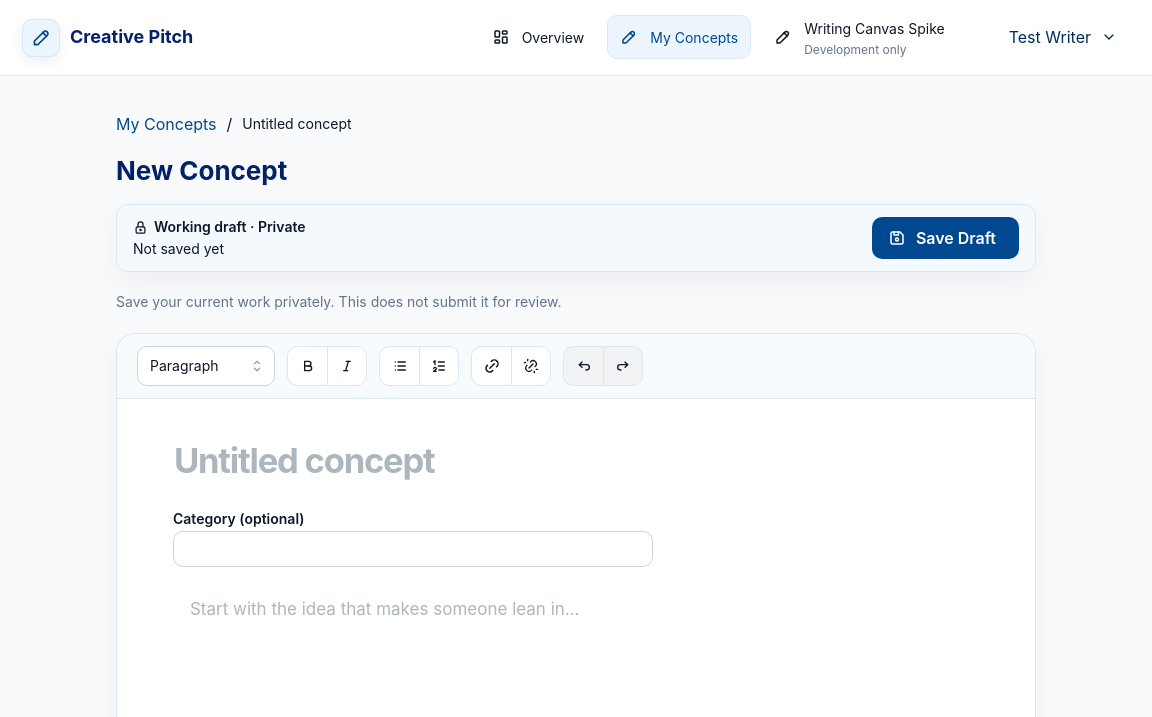
Test: does not silently replay a timed-out POST
The width and height of the screenshot is (1152, 717).
Type "Timeout check" into the text box named "Concept title" at (576, 460), box x1=173 y1=439 x2=979 y2=482
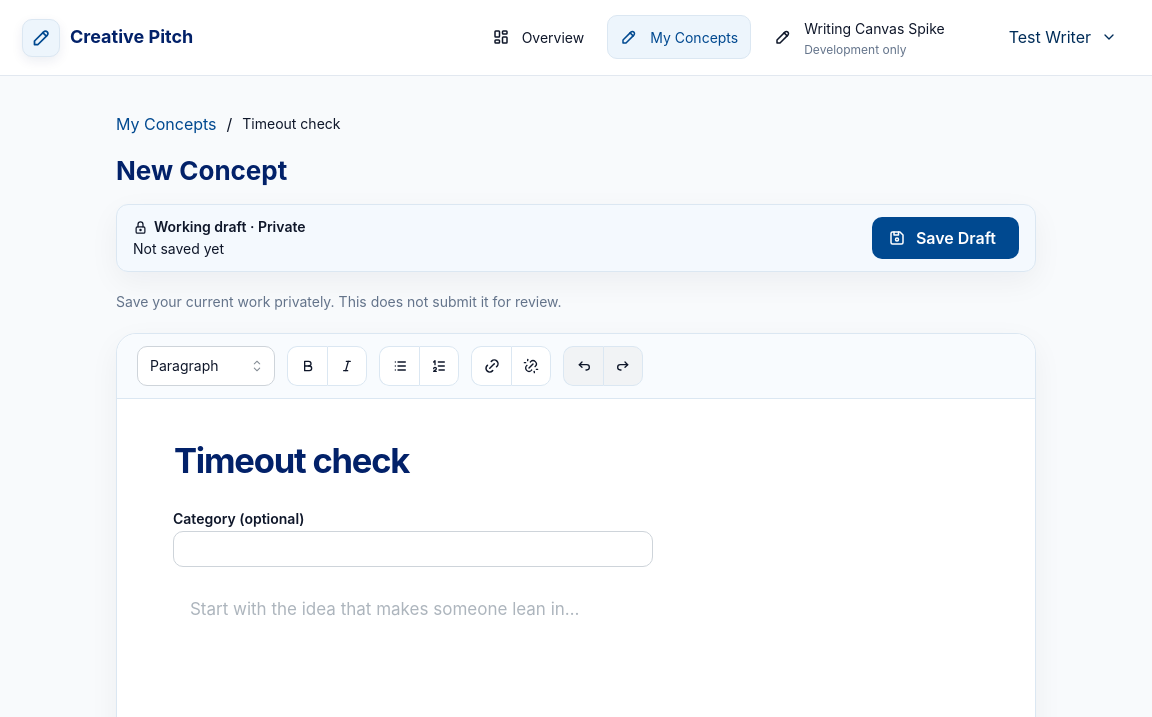
Click the button "Save Draft" at (946, 238), box x1=872 y1=217 x2=1019 y2=259
Wait 6100 ms
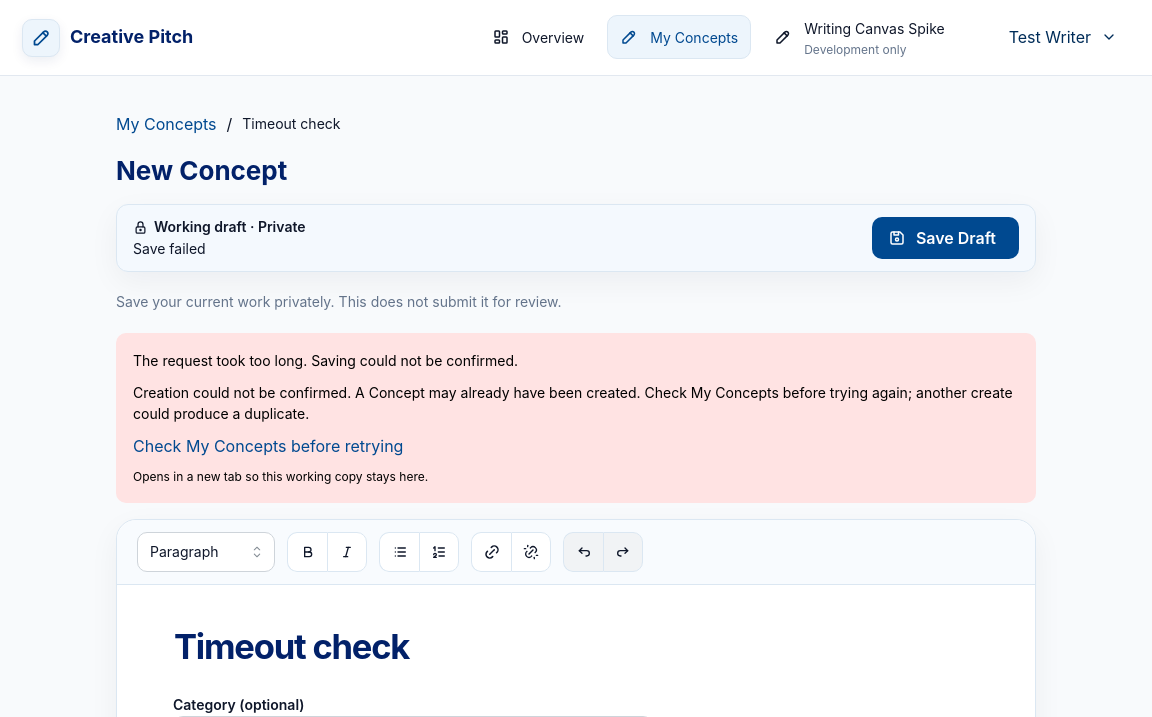
Expected: the text "Save failed" is shown, x1=133 y1=240 x2=206 y2=257
Expected: the link "Check My Concepts before retrying" is shown, x1=133 y1=436 x2=403 y2=456
